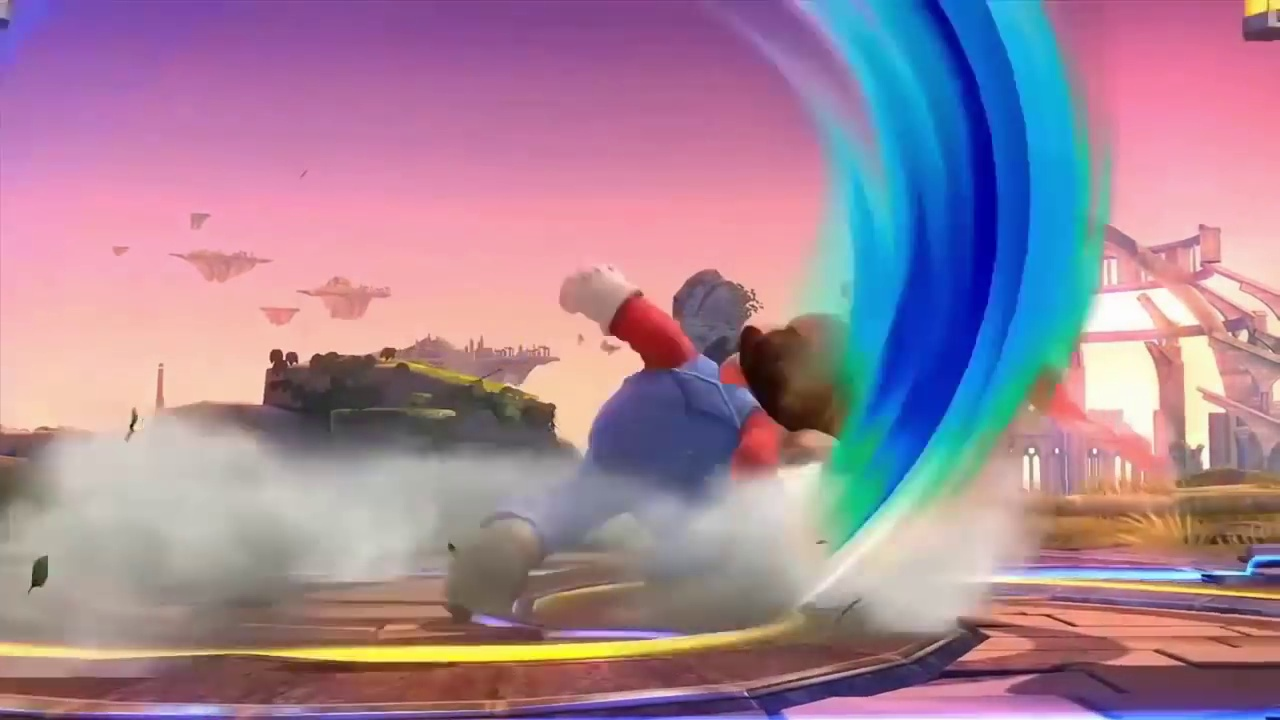Mario: (445, 264, 857, 631)
